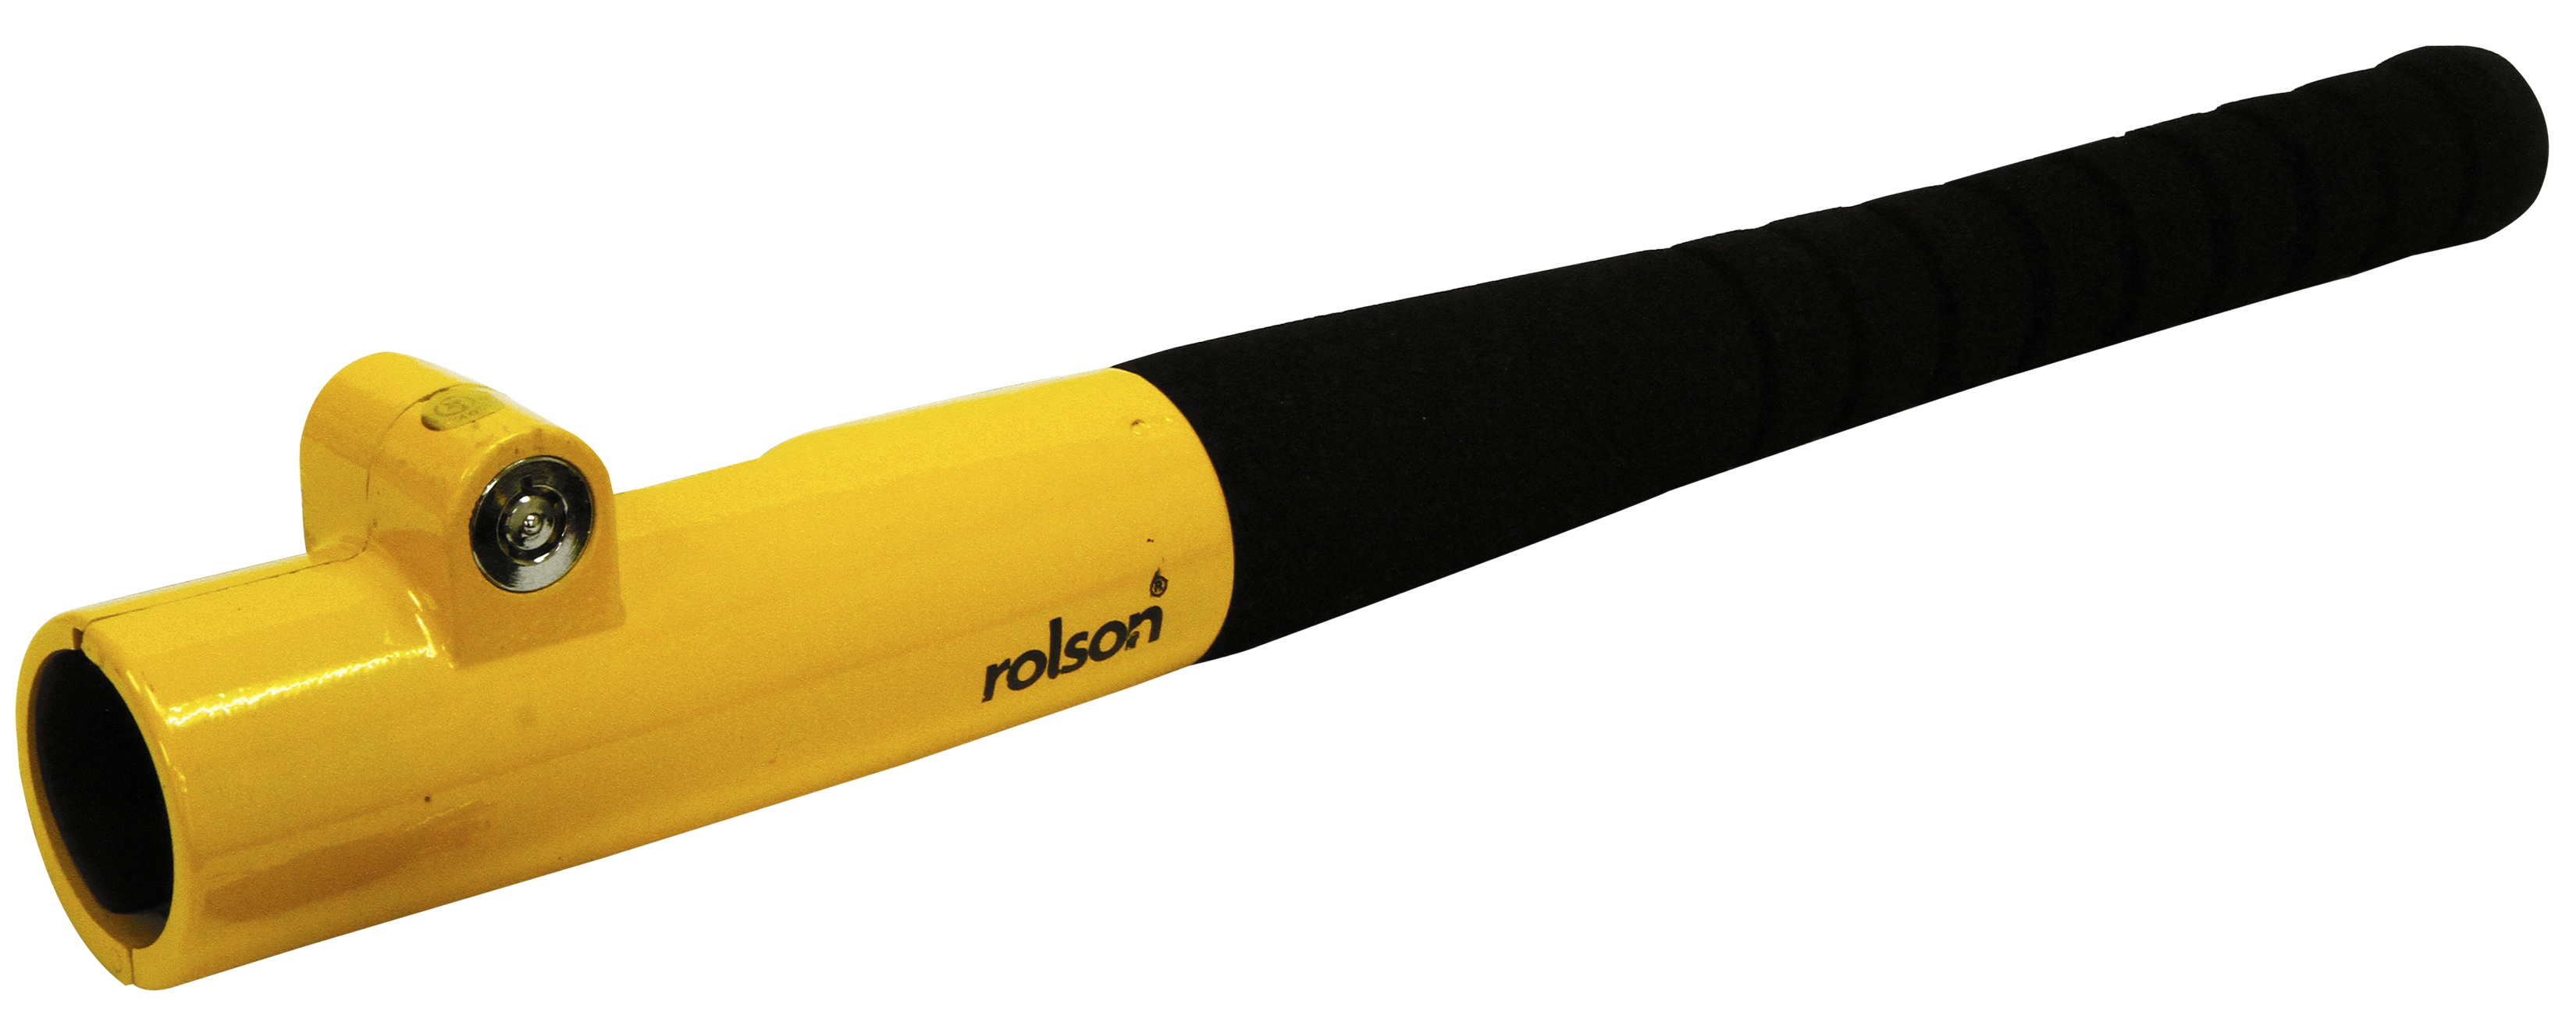bita: (26, 67, 2510, 954)
